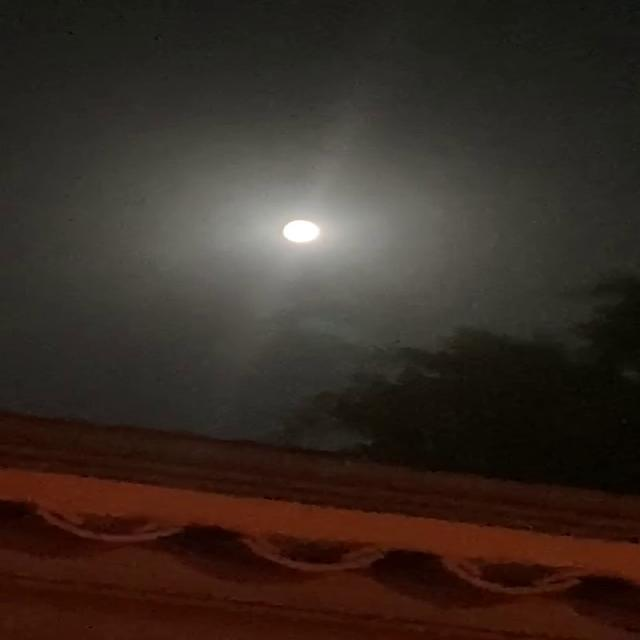moon: (266, 214, 325, 252)
